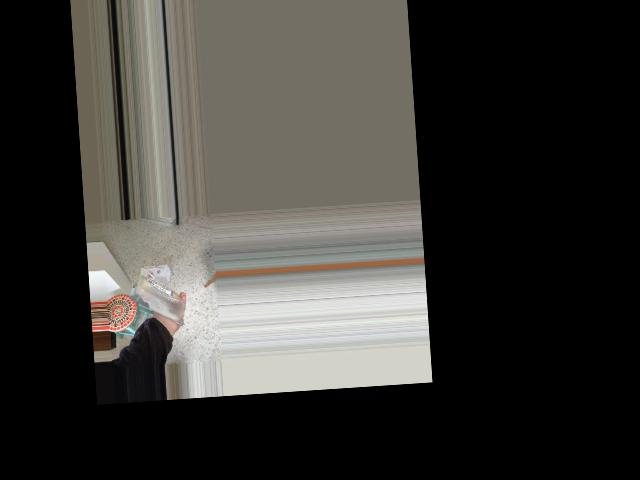cheese: (111, 257, 191, 334)
